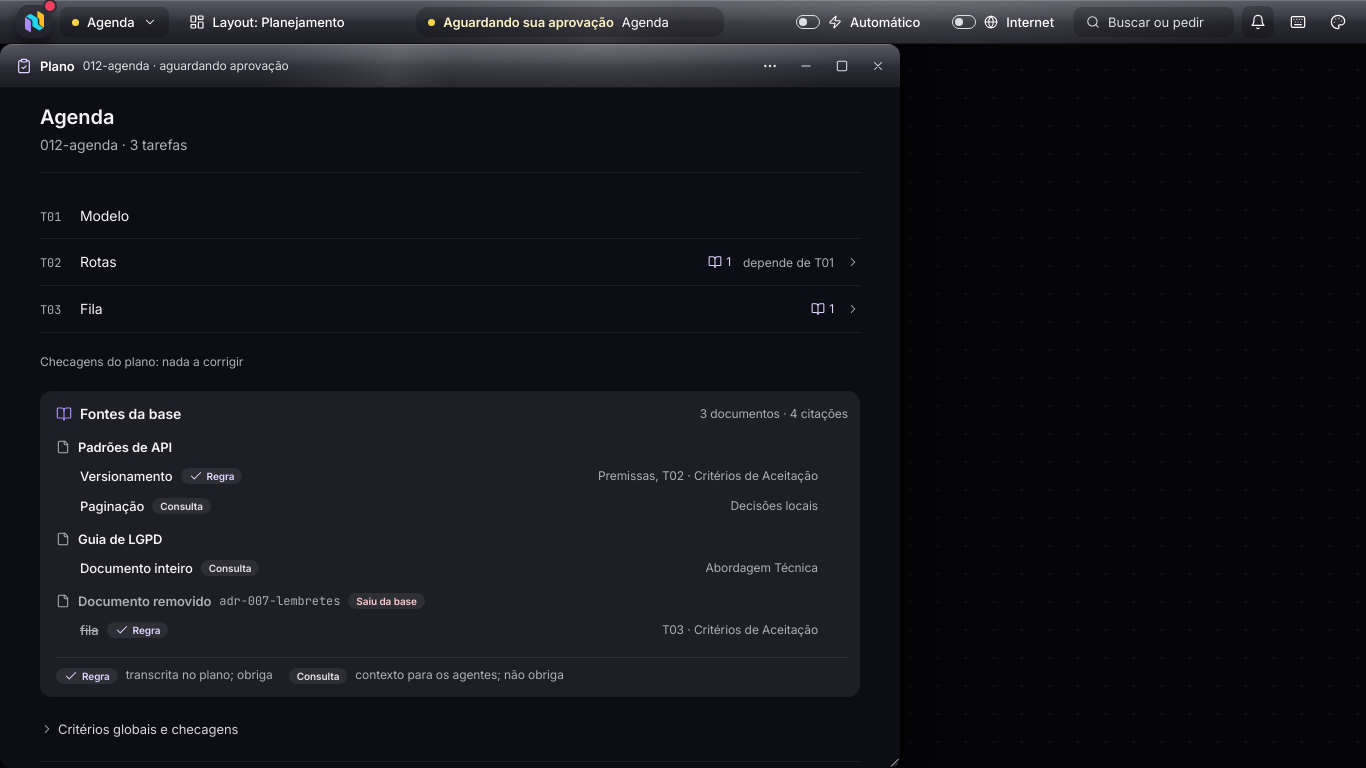
it: Critérios com as citações como link › a citação mostra o título da seção (spec 136 T06), com um pedido só por documento e relido no kb_updated
Step 1. Click the button "T02 Rotas 1 depende de T01" → (98, 262), box [40,239,860,285]
(page scrolled)
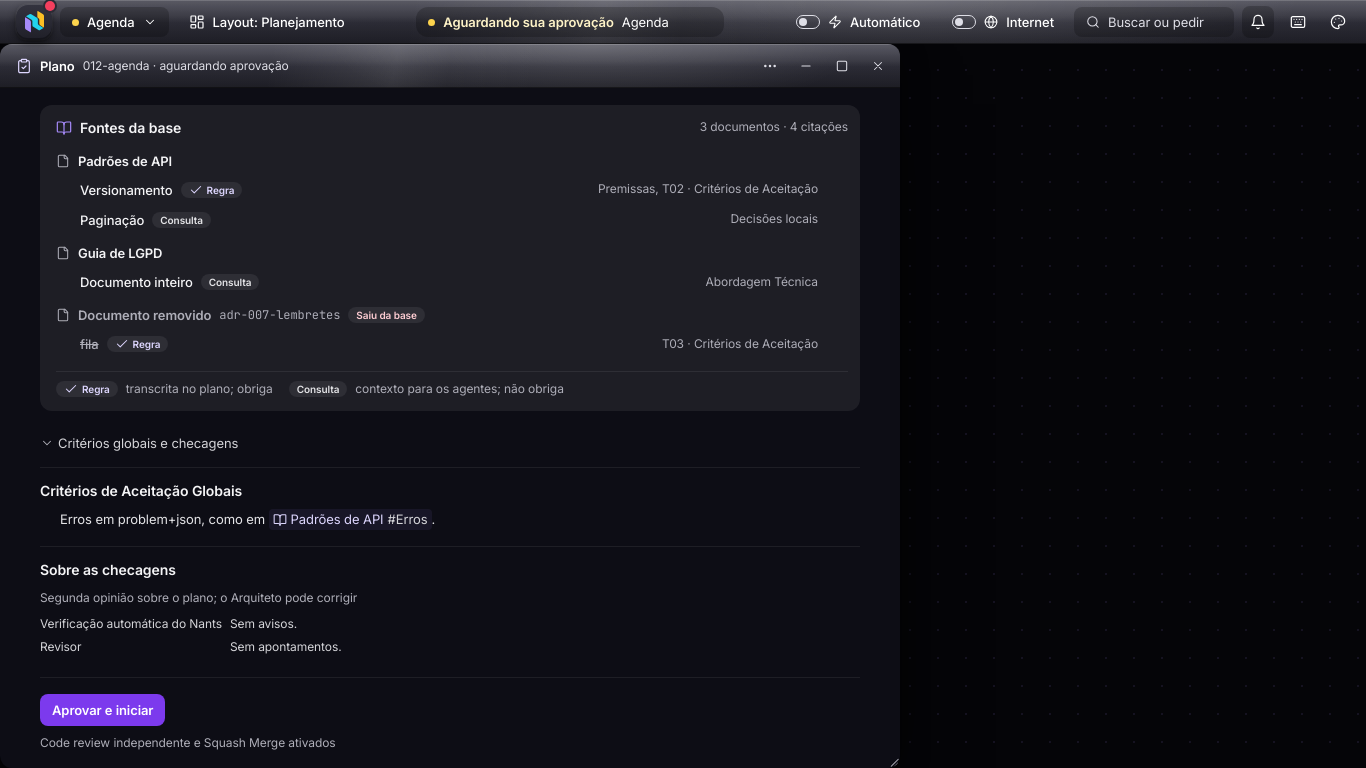
Result: the text "#Erros" is shown at [388,509,428,530]
